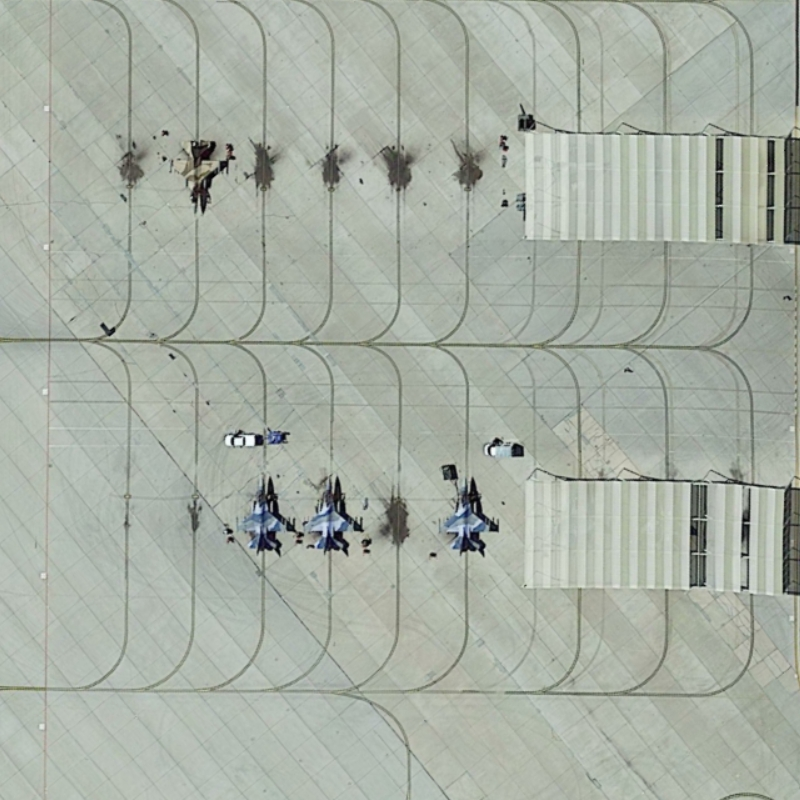A5: (165, 129, 243, 220), (431, 472, 504, 556), (230, 459, 293, 556), (295, 472, 365, 558)
